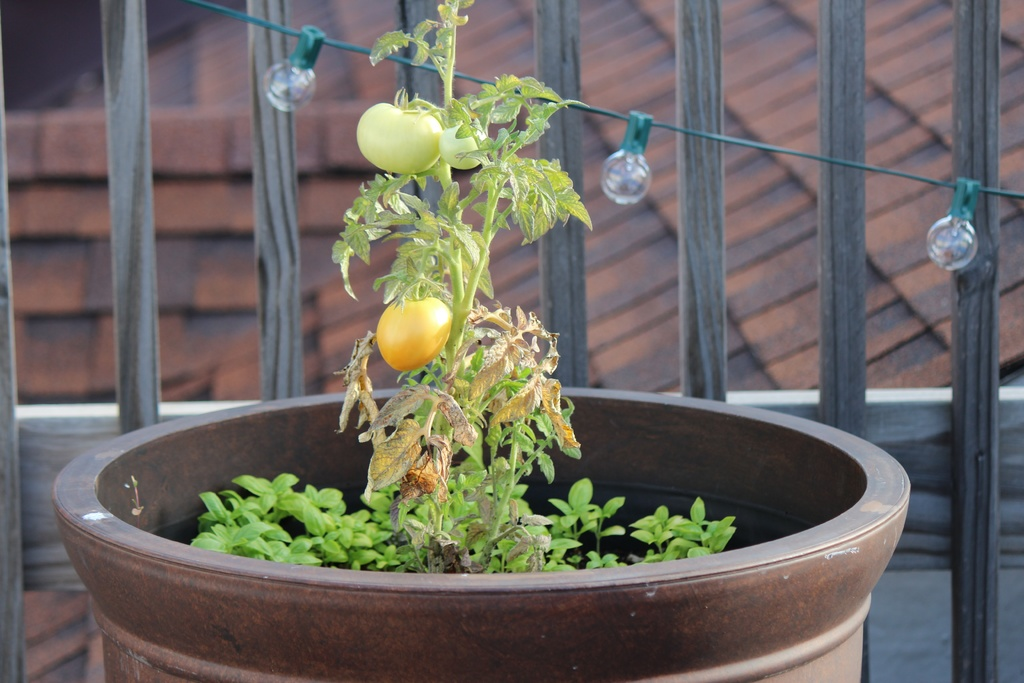Tomato: (357, 89, 440, 176), (364, 293, 453, 371), (437, 124, 485, 178)
